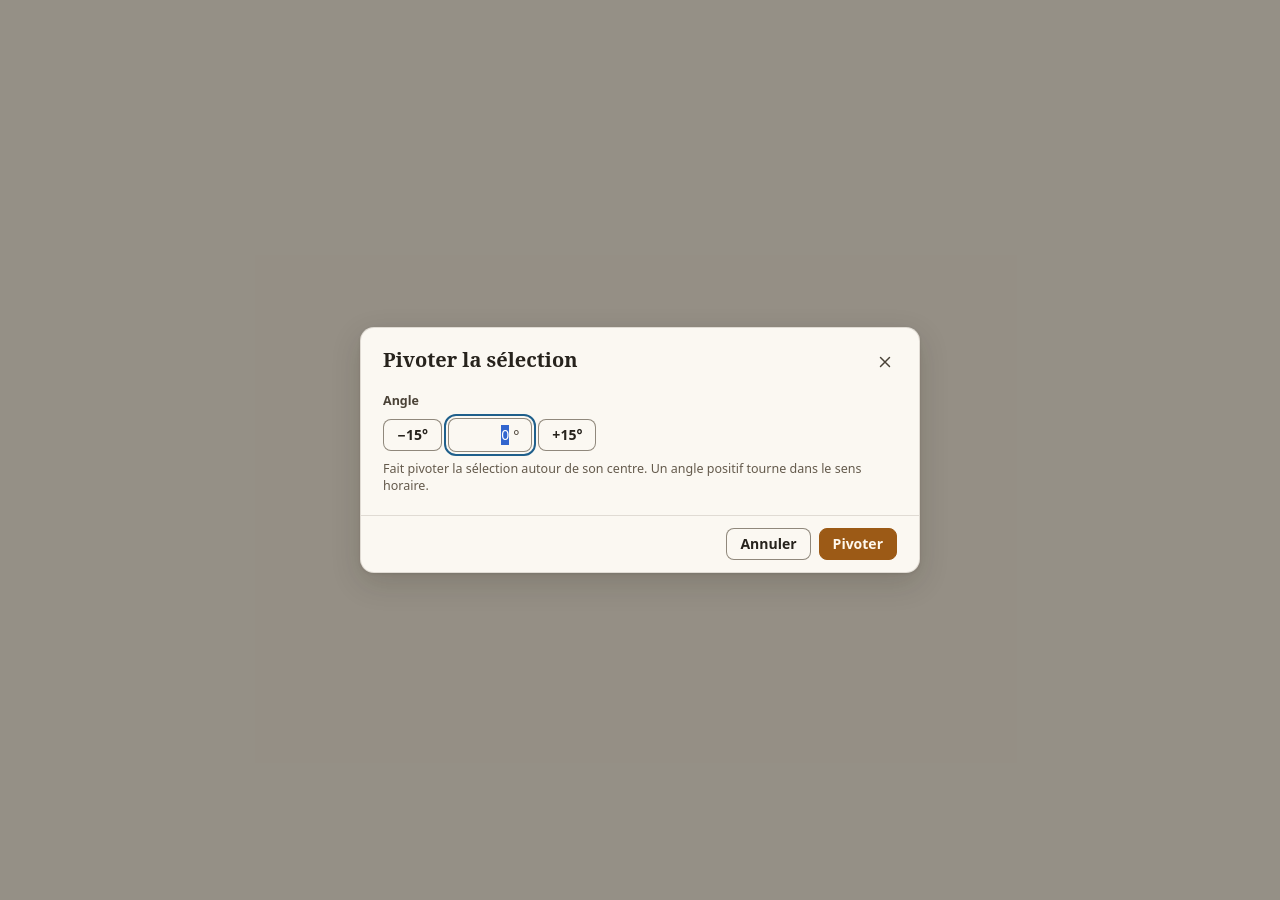
Test: Rotate… dialog › shows a stepped angle with the interface language decimals
Replace the text in the field labelled "Angle" with "7,5": coordinates (485, 435) [461,425,509,445]
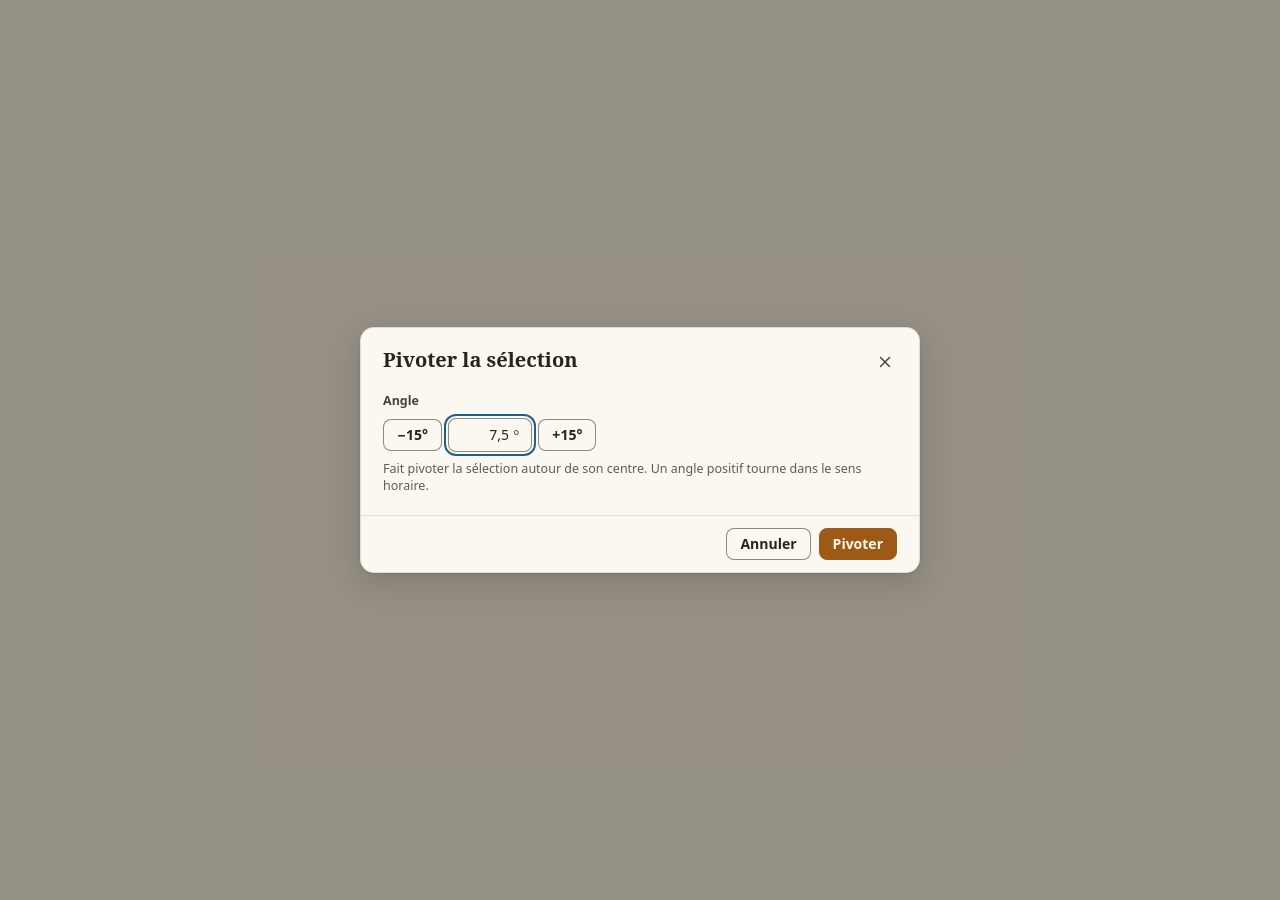
Click the button "+15°": coordinates (567, 435) [538,419,596,451]
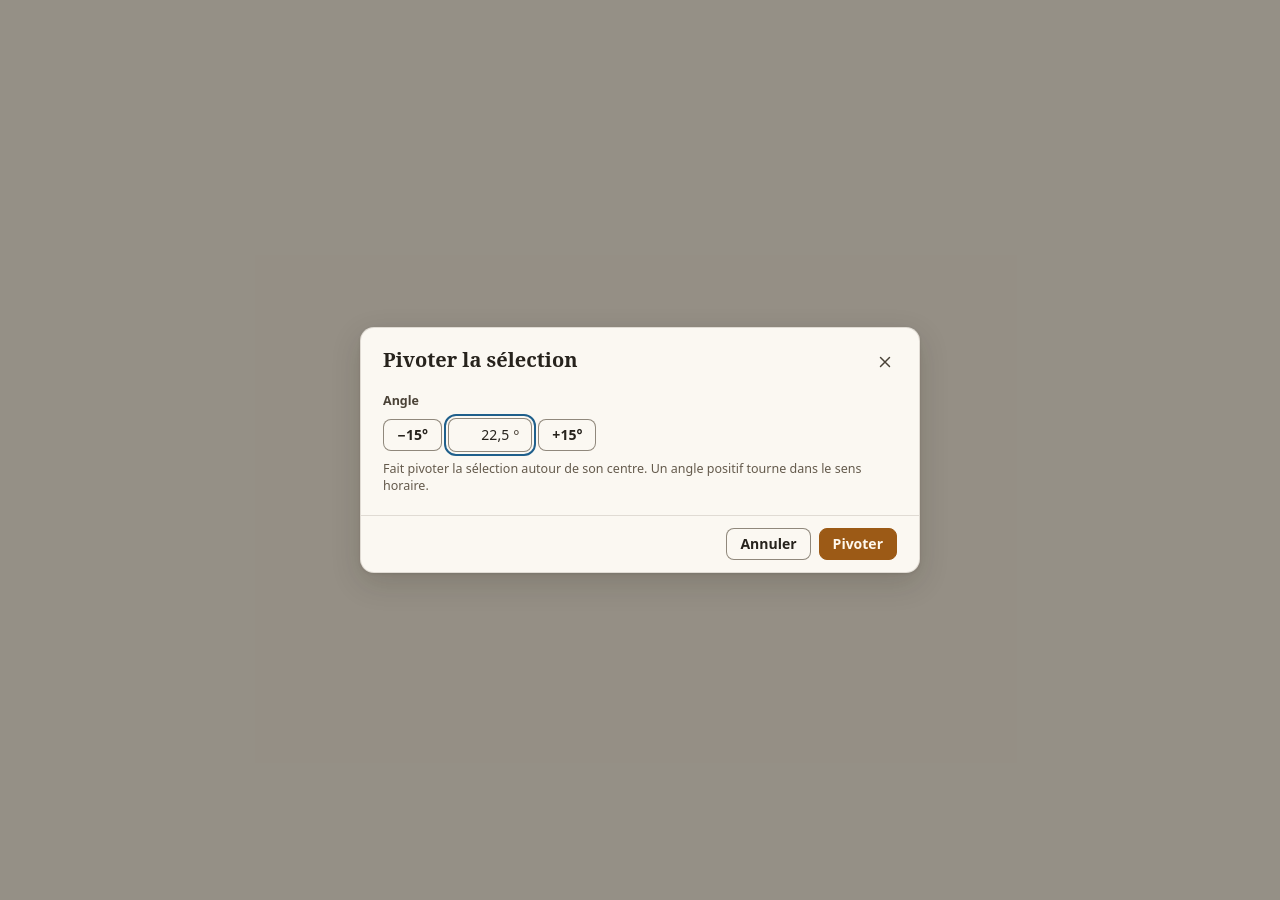
Result: the field labelled "Angle" holds "22,5" at [461,425,509,445]
